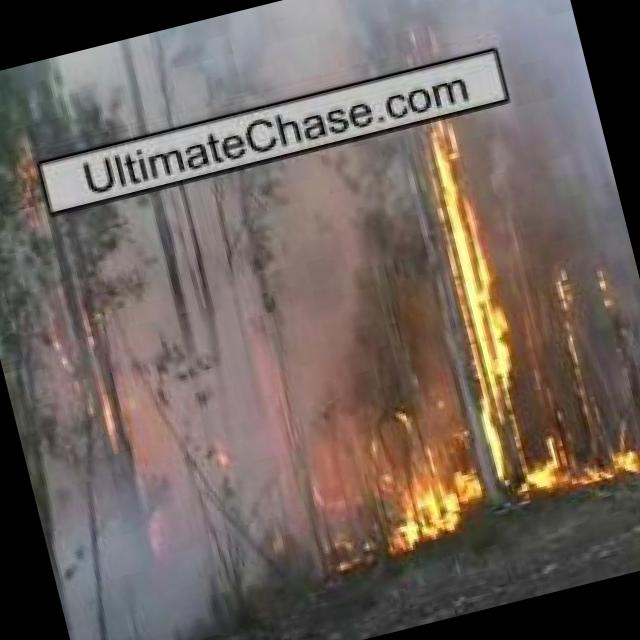Fire: (414, 90, 568, 497), (352, 413, 489, 563), (90, 368, 171, 497), (11, 140, 61, 228), (583, 436, 640, 484)
Smoke: (0, 136, 490, 640), (54, 0, 575, 147)
